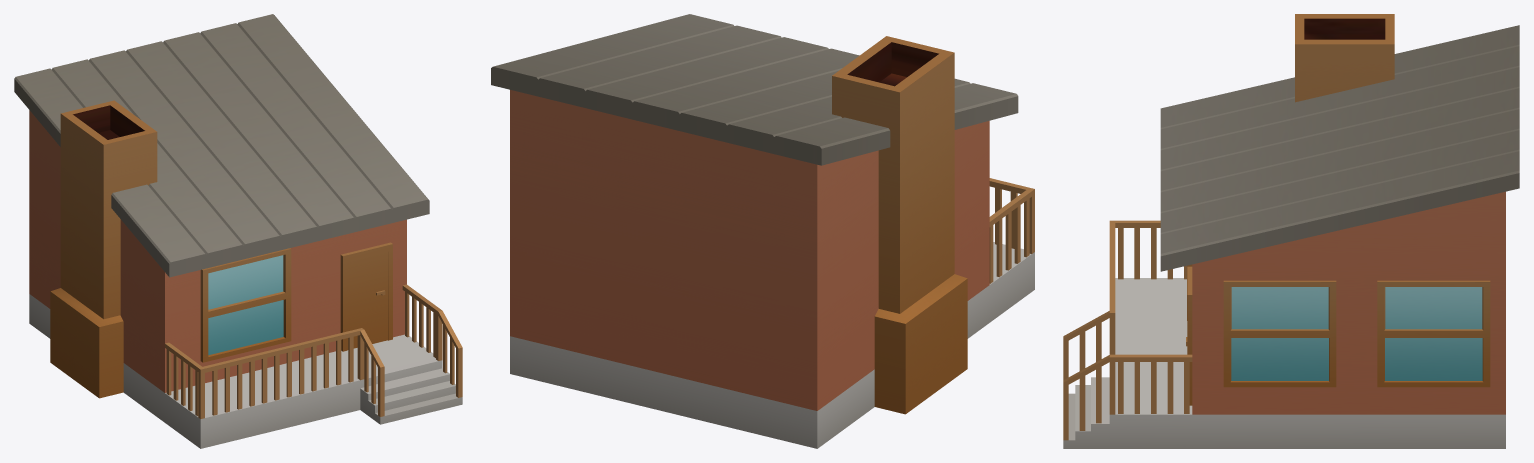
The model's file is Textured Building.obj.
The picture shows the model from 3 angles, left to right: view 1: azimuth 30°, elevation 25°; view 2: azimuth 150°, elevation 25°; view 3: azimuth 270°, elevation 25°; orthographic projection. The views are drawn at different scales.
Parts seen in each view (by area): view 1: pCube52, walls wall1, pCube4, wall walls, pCube20 Windows, roof_section roof2, roof_section roof8, roof_section roof4, roof_section roof1, roof_section roof6, roof_section roof12, roof_section roof10 (+9 smaller); view 2: walls wall2, pCube52, wall walls, pCube53, roof_section roof13, roof roof_section, roof_section roof5, roof_section roof3, roof_section roof7, roof_section roof9, roof_section roof11, roof_section roof4 (+7 smaller); view 3: walls wall3, pCube4, Windows pCube50, Windows pCube51, pCube53, pCube52, roof_section roof1, roof roof_section, roof_section roof6, roof_section roof8, roof_section roof4, roof_section roof2 (+11 smaller).
Part boxes in pixels (box(x1,y1,x2,y2)): pCube52: box(50, 100, 157, 398); walls wall1: box(165, 219, 406, 392); pCube4: box(165, 334, 462, 448); wall walls: box(29, 110, 164, 392); pCube20 Windows: box(200, 248, 291, 362); roof_section roof2: box(278, 116, 392, 231); roof_section roof8: box(166, 143, 280, 259); roof_section roof4: box(241, 125, 355, 241); roof_section roof1: box(315, 107, 429, 222); roof_section roof6: box(203, 134, 317, 250); roof_section roof12: box(111, 184, 206, 277); roof_section roof10: box(148, 152, 243, 268); walls wall2: box(510, 90, 817, 410); pCube52: box(832, 36, 967, 414); wall walls: box(817, 121, 989, 410); pCube53: box(510, 285, 989, 448); roof_section roof13: box(774, 117, 890, 165); roof roof_section: box(491, 40, 635, 96); roof_section roof5: box(585, 63, 730, 119); roof_section roof3: box(538, 52, 682, 107); roof_section roof7: box(632, 75, 777, 130); roof_section roof9: box(680, 86, 824, 142); roof_section roof11: box(727, 98, 841, 153); roof_section roof4: box(686, 37, 828, 75); walls wall3: box(1192, 191, 1505, 414); pCube4: box(1063, 278, 1192, 448); Windows pCube50: box(1377, 280, 1490, 387); Windows pCube51: box(1223, 280, 1336, 387); pCube53: box(1192, 414, 1505, 448); pCube52: box(1295, 14, 1394, 102); roof_section roof1: box(1160, 193, 1340, 271); roof roof_section: box(1340, 151, 1519, 229); roof_section roof6: box(1160, 130, 1340, 192); roof_section roof8: box(1160, 109, 1340, 171); roof_section roof4: box(1160, 151, 1340, 213); roof_section roof2: box(1160, 172, 1340, 234).
Size of the model in its own units: 4.45 by 3.85 by 5.52.
Materials: 1 (1 with a texture image).
